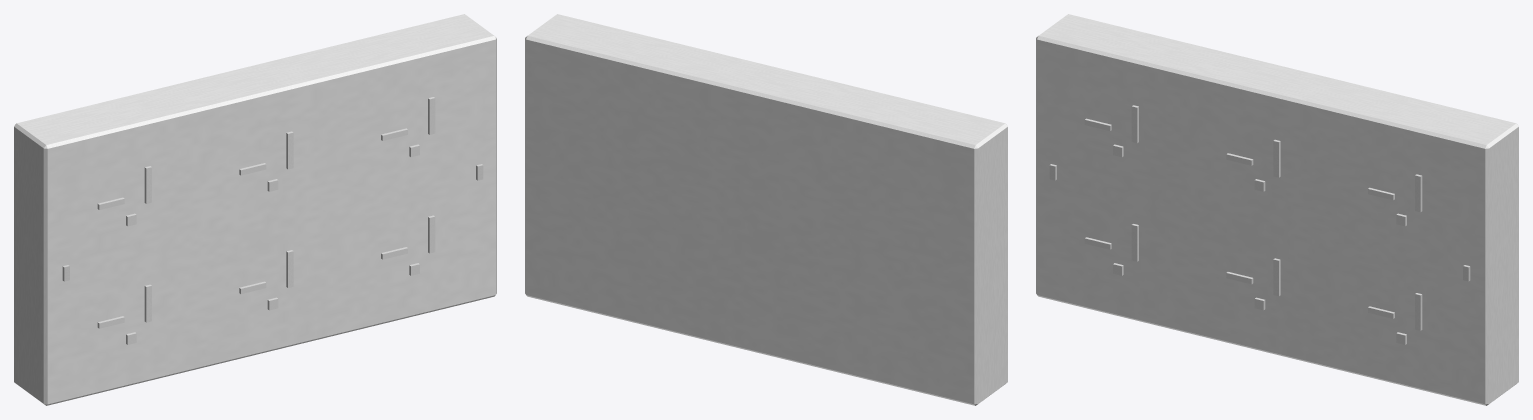
The model's file is sixsocketpowerstrip.obj.
3 views of the same model, side by side, from view 1: azimuth 30°, elevation 25°; view 2: azimuth 150°, elevation 25°; view 3: azimuth 330°, elevation 25° (orthographic).
Parts seen in each view (by area): view 1: Case, Black; view 2: Case; view 3: Case, Black.
Boxes of the visible parts, x1,y1,x2,y2 form: Case: (14, 14, 496, 405); Black: (97, 97, 435, 344); Case: (525, 14, 1007, 405); Case: (1036, 14, 1518, 405); Black: (1084, 105, 1422, 344).
Size of the model in its own units: 0.8 by 0.44 by 0.106.
